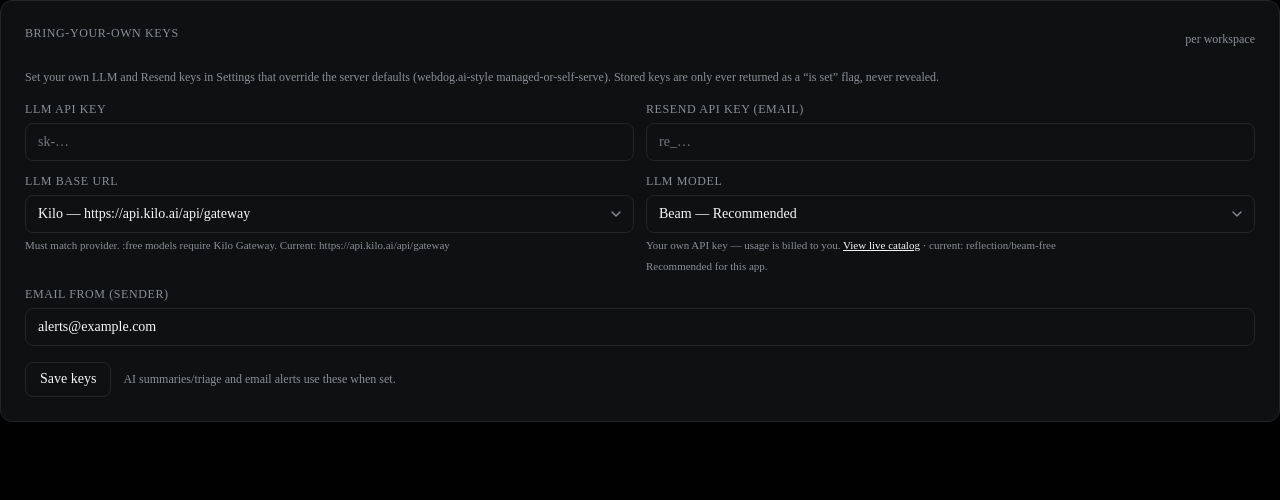
WorkspaceKeys › blocks custom base or model overrides client-side when no LLM API key is set (#65)
expect the password field with placeholder "sk-…" is shown: met, box 25,123 -> 634,161
Select "Custom…" in the dropdown below "LLM base URL" at (330, 214), box 25,195 -> 634,233
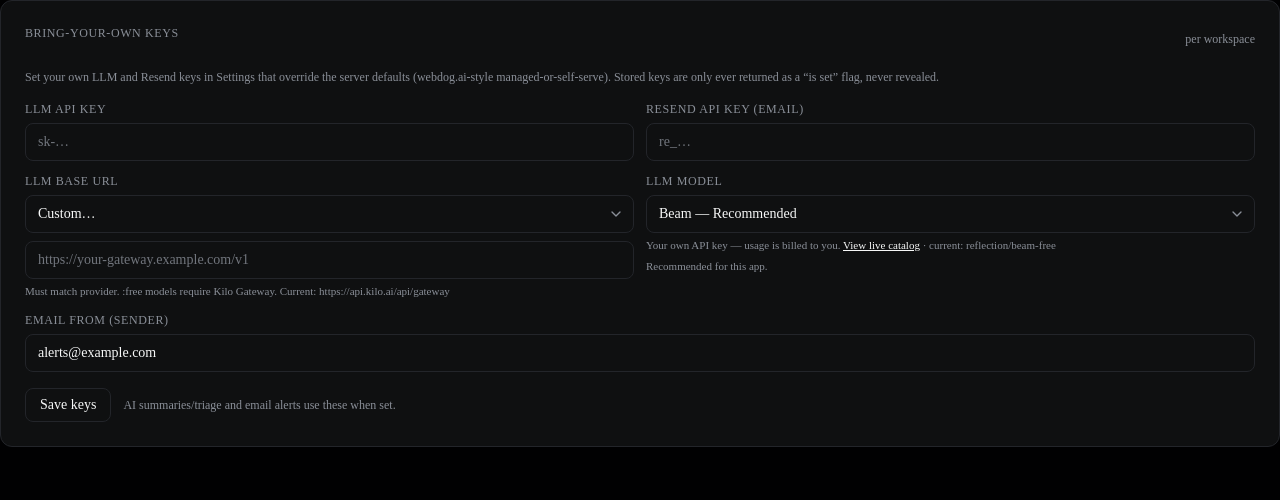
Type "https://api.openai.com/v1" into the field with placeholder "https://your-gateway.example.com/v1" at (330, 260), box 25,241 -> 634,279
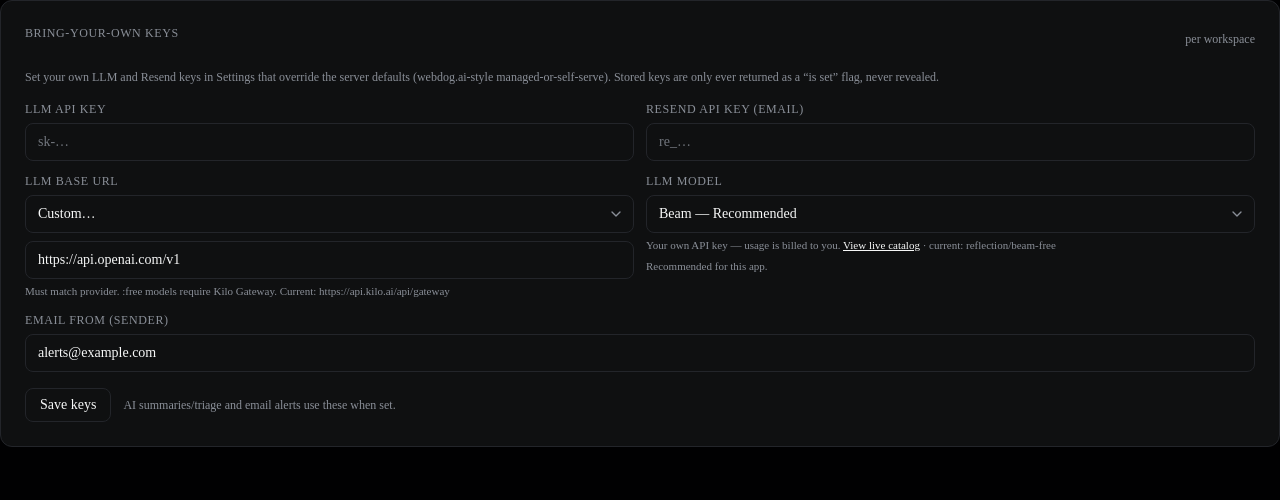
Click the button "Save keys" at (68, 405), box 25,388 -> 111,422
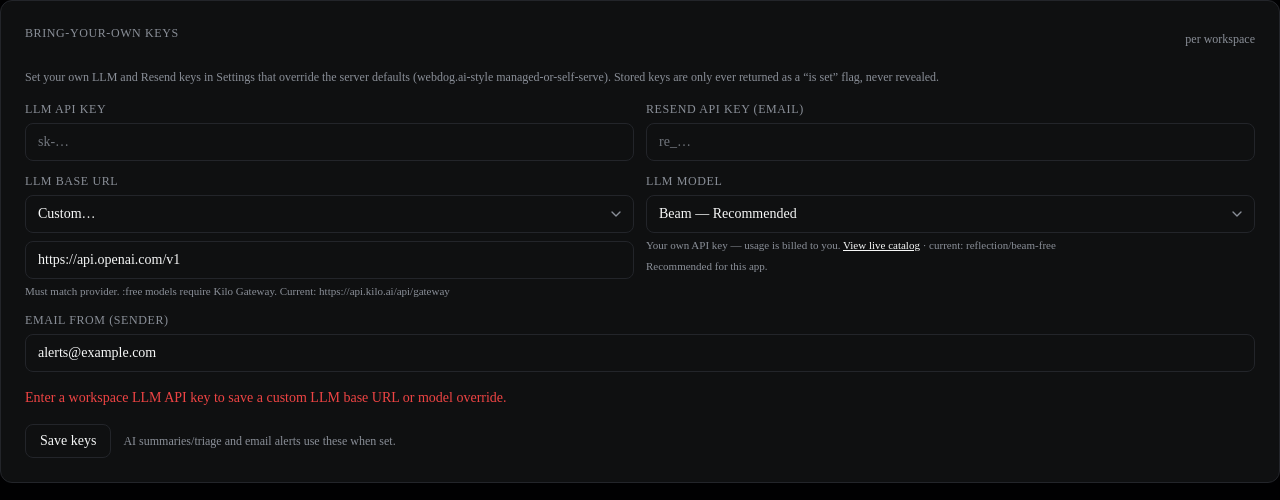
expect the text "Enter a workspace LLM API key to save a custom LLM base URL or model" is shown: met, box 25,390 -> 507,404
